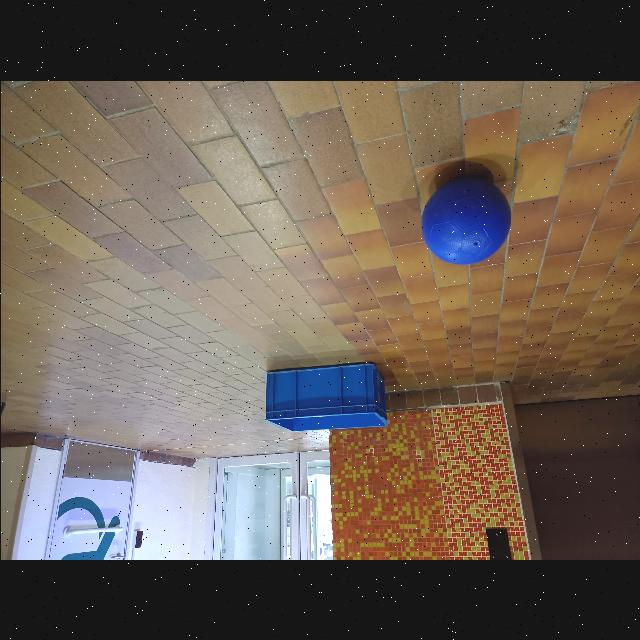B: (416, 168, 514, 268)
